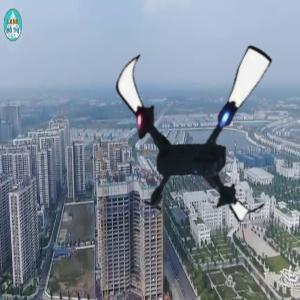drone: (92, 27, 296, 231)
